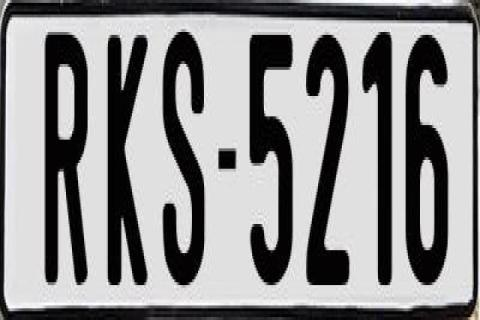0: (246, 32, 296, 300), (406, 35, 454, 303), (304, 32, 354, 285), (360, 27, 394, 280)
K: (107, 27, 147, 280)
R: (42, 24, 88, 282)
S: (164, 27, 208, 286)
